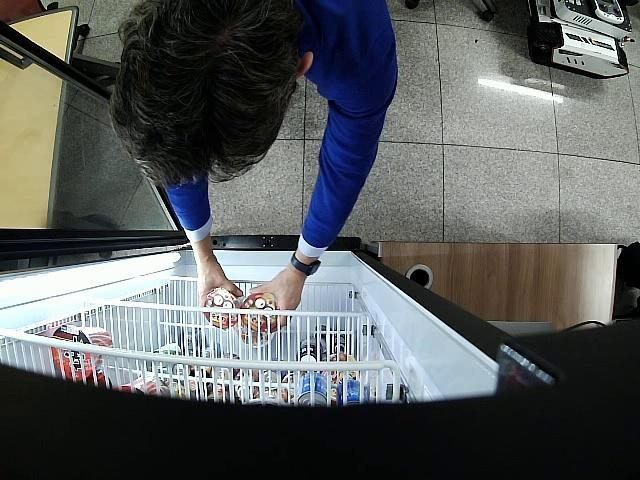06_nuguri_S: (240, 292, 278, 332), (205, 288, 239, 330)
